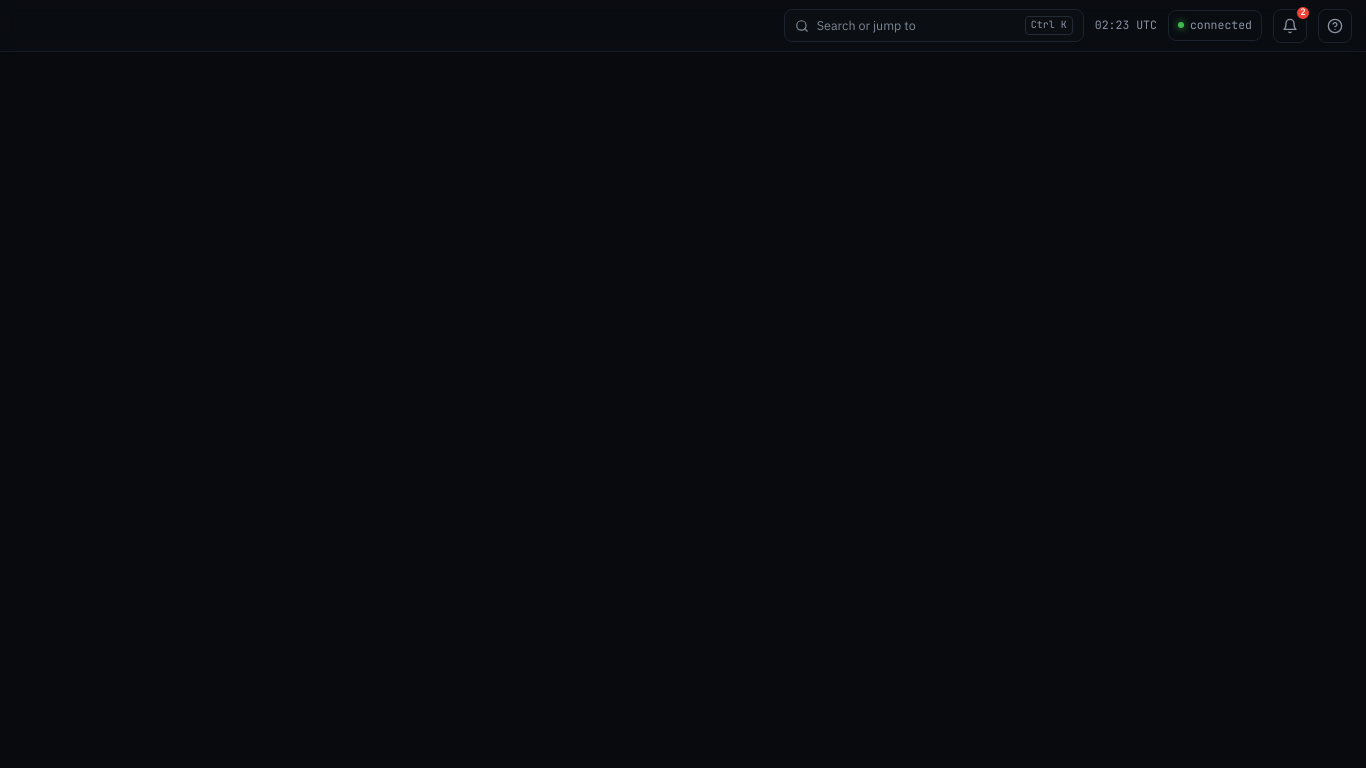
Scenario: Topbar badge states the needs-you count › falls back to the danger and warn rows when the count cannot be read
Expected: the text with test id "notif-badge" reads "2", x1=1300 y1=6 x2=1306 y2=18
Step 1. Click the button named "Notifications" → (1290, 26), box x1=1273 y1=8 x2=1307 y2=42
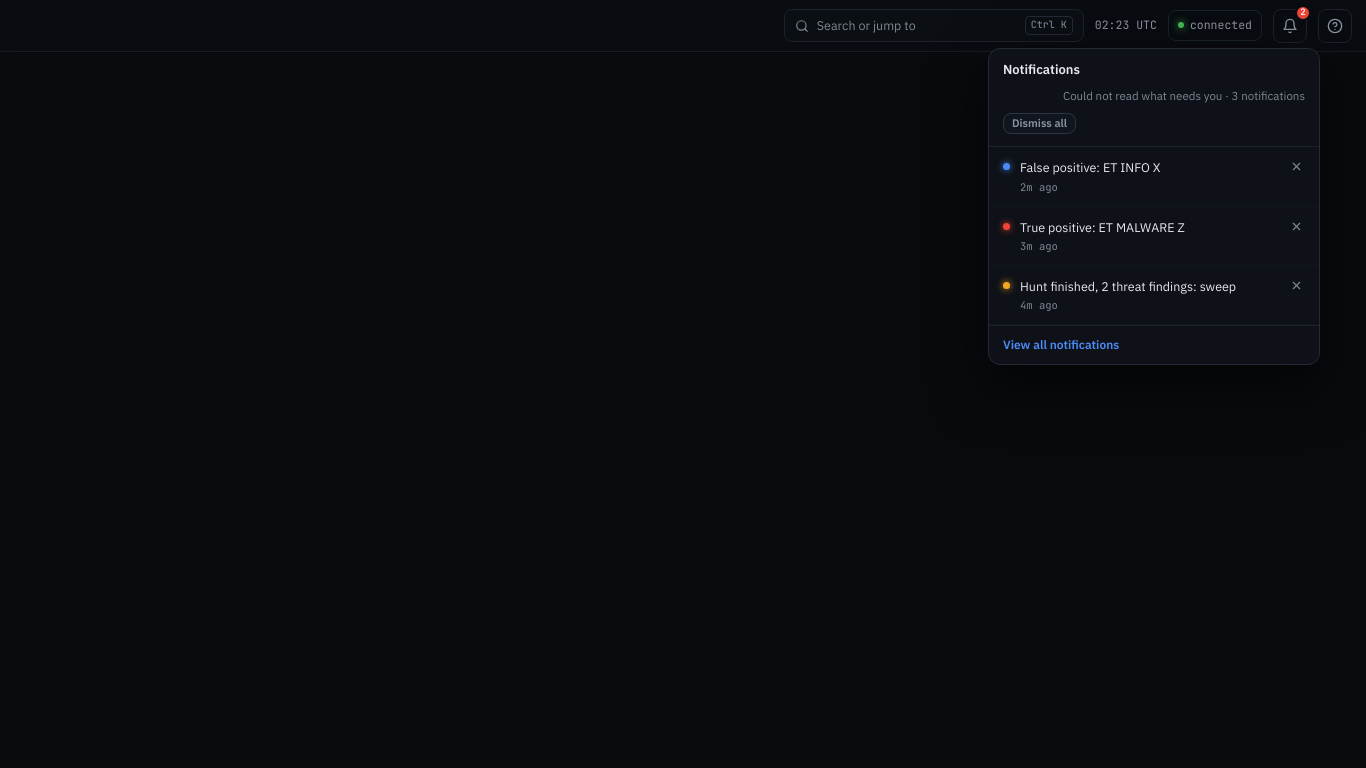
Expected: the text with test id "notif-summary" reads "Could not read what needs you · 3 notifications", x1=1063 y1=88 x2=1305 y2=103
